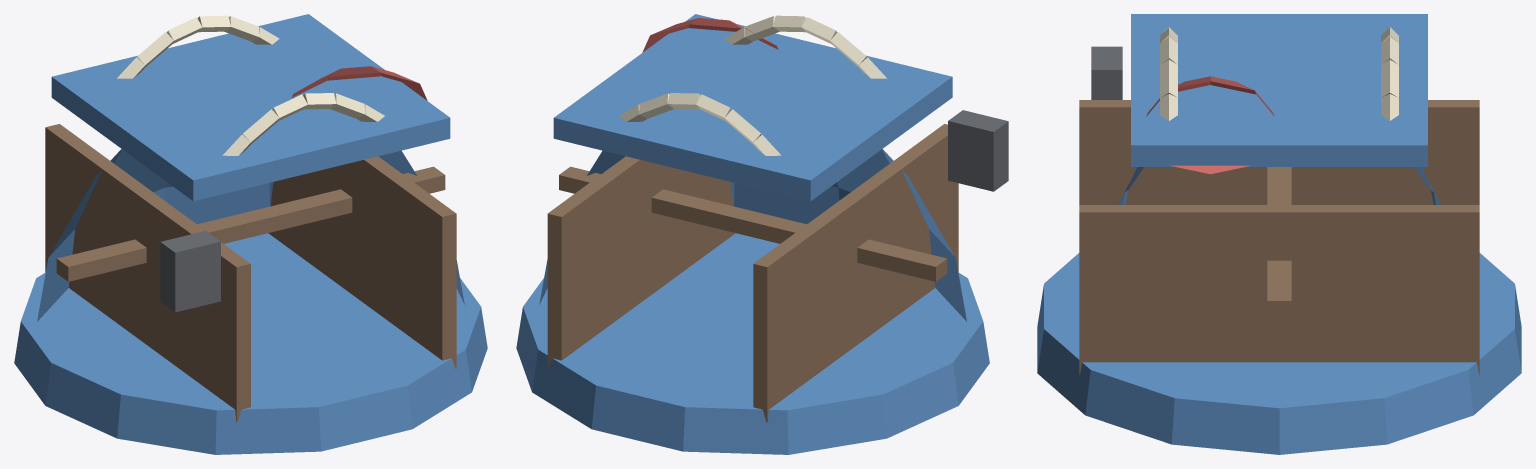
File: hot-air-balloon-festival-balloon-envelope-bag-5467a028__38468.glb
3 views of the same model, side by side, from view 1: azimuth 30°, elevation 25°; view 2: azimuth 150°, elevation 25°; view 3: azimuth 270°, elevation 25° (orthographic). The views are drawn at different scales.
Visible parts, largest first — view 1: balloon-envelope-bag-canvasC, balloon-envelope-bag-leather, balloon-envelope-bag-rope, balloon-envelope-bag-charcoal, balloon-envelope-bag-canvasA; view 2: balloon-envelope-bag-canvasC, balloon-envelope-bag-leather, balloon-envelope-bag-rope, balloon-envelope-bag-charcoal, balloon-envelope-bag-canvasA; view 3: balloon-envelope-bag-leather, balloon-envelope-bag-canvasC, balloon-envelope-bag-rope, balloon-envelope-bag-charcoal, balloon-envelope-bag-canvasA.
Boxes of the visible parts, <box> form: balloon-envelope-bag-canvasC: <box>14,14,487,454</box>; balloon-envelope-bag-leather: <box>45,124,456,422</box>; balloon-envelope-bag-rope: <box>117,15,384,155</box>; balloon-envelope-bag-charcoal: <box>160,231,220,312</box>; balloon-envelope-bag-canvasA: <box>291,66,427,100</box>; balloon-envelope-bag-canvasC: <box>516,14,989,454</box>; balloon-envelope-bag-leather: <box>547,124,958,422</box>; balloon-envelope-bag-rope: <box>619,15,886,155</box>; balloon-envelope-bag-charcoal: <box>948,110,1008,191</box>; balloon-envelope-bag-canvasA: <box>642,18,778,52</box>; balloon-envelope-bag-leather: <box>1079,100,1479,374</box>; balloon-envelope-bag-canvasC: <box>1037,14,1521,454</box>; balloon-envelope-bag-rope: <box>1160,27,1398,120</box>; balloon-envelope-bag-charcoal: <box>1091,46,1122,99</box>; balloon-envelope-bag-canvasA: <box>1146,76,1274,174</box>.
Size of the model in its own units: 1.44 by 1.01 by 1.4.
